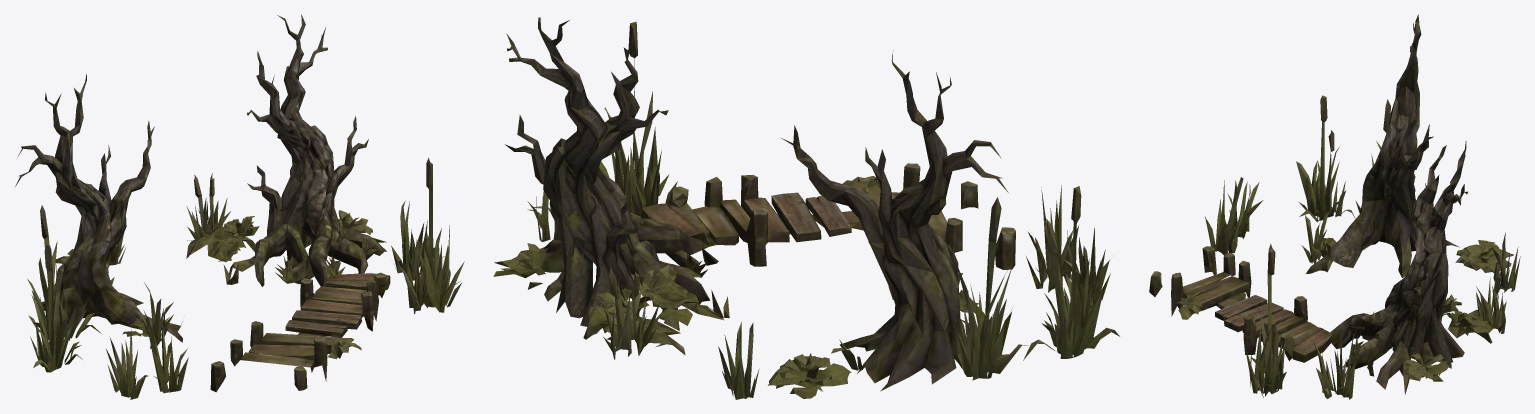
Rendered from marsh.glb.
The picture shows the model from 3 angles, left to right: view 1: azimuth 30°, elevation 25°; view 2: azimuth 150°, elevation 25°; view 3: azimuth 270°, elevation 25°; orthographic projection. The views are drawn at different scales.
Bounding box in the file's own units: 2.31 × 1.27 × 1.79.
Materials: 1 (1 with a texture image).
